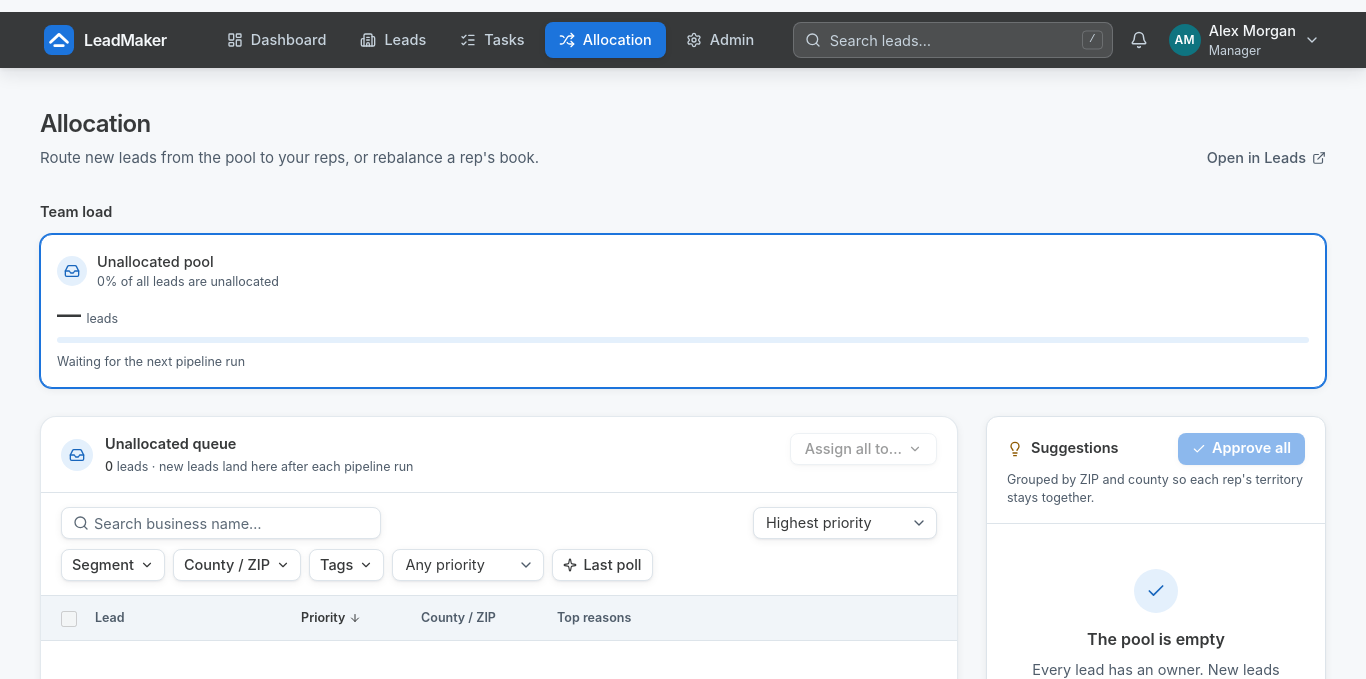
Test: Switch user › a rep switched in on a managers-only page lands on the dashboard without a warning
Click the button with aria-label "Account menu for Alex Morgan, Manager": (1245, 40) [1165, 16, 1326, 64]
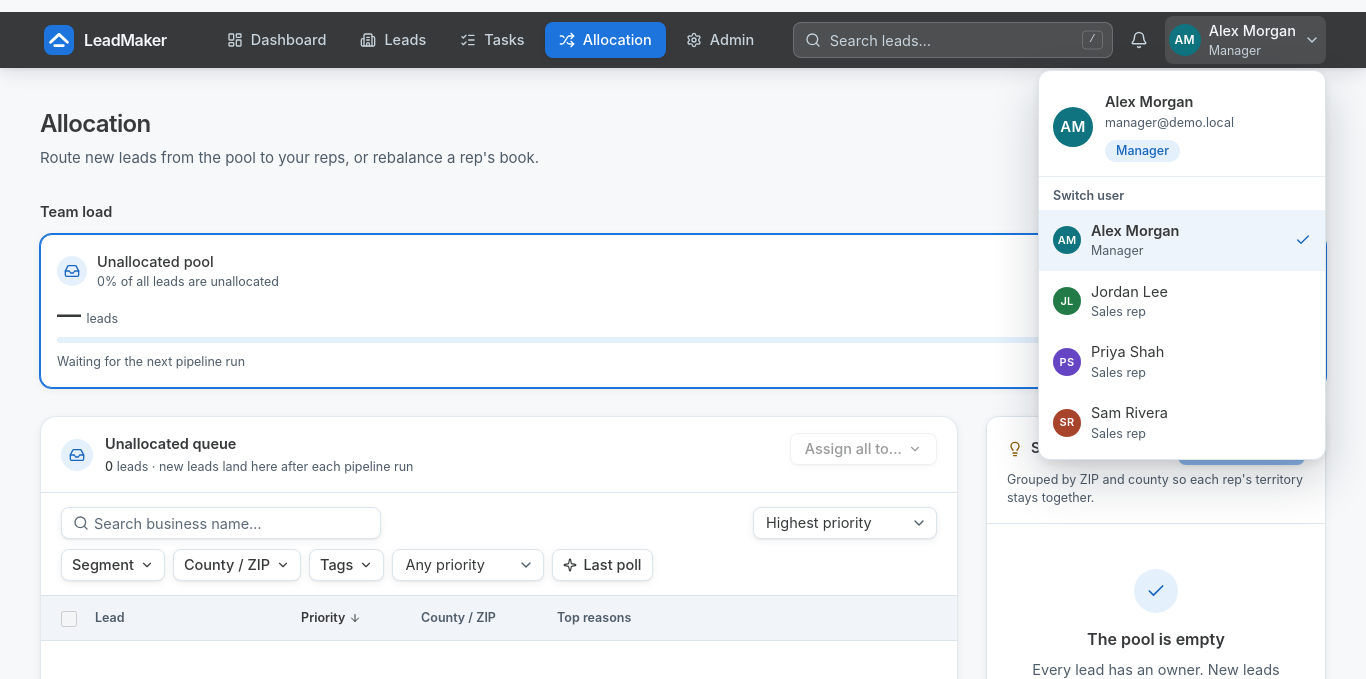
Click the menu item "PS Priya Shah Sales rep": (1128, 352) [1039, 332, 1325, 392]
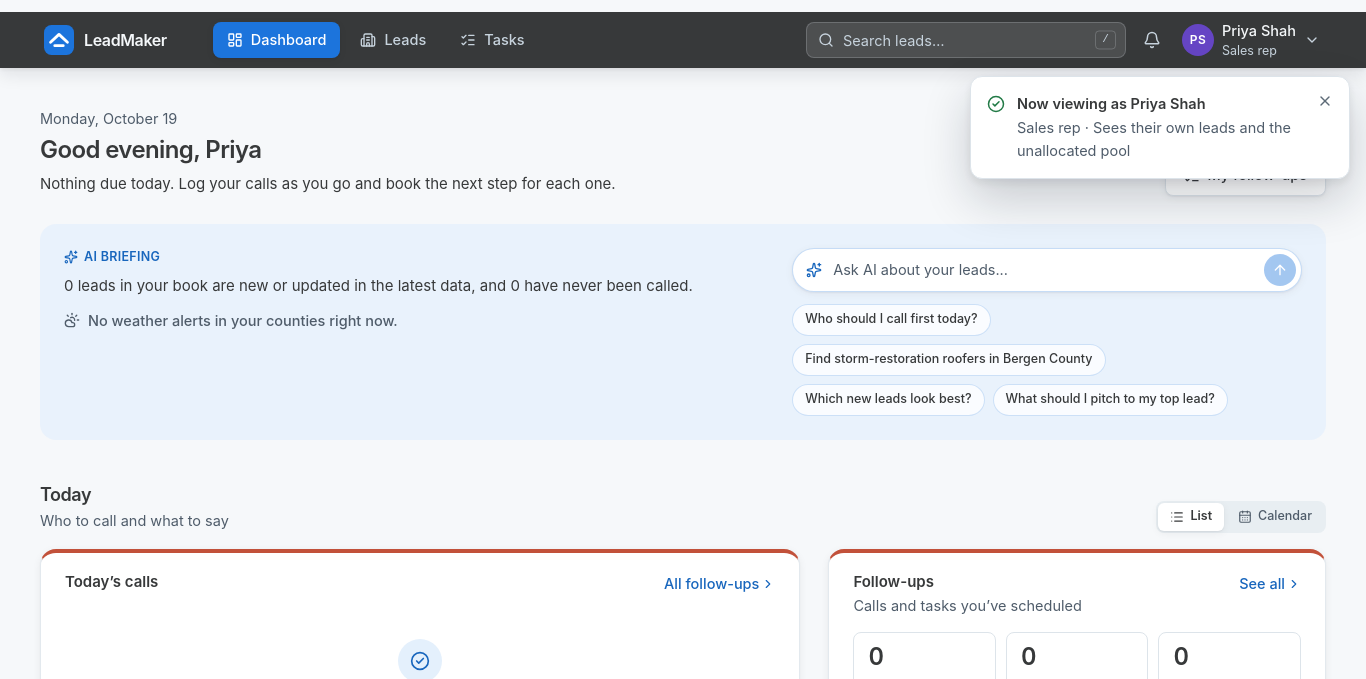
Expected: the text "Now viewing as Priya Shah" is shown, [1017, 95, 1206, 112]
